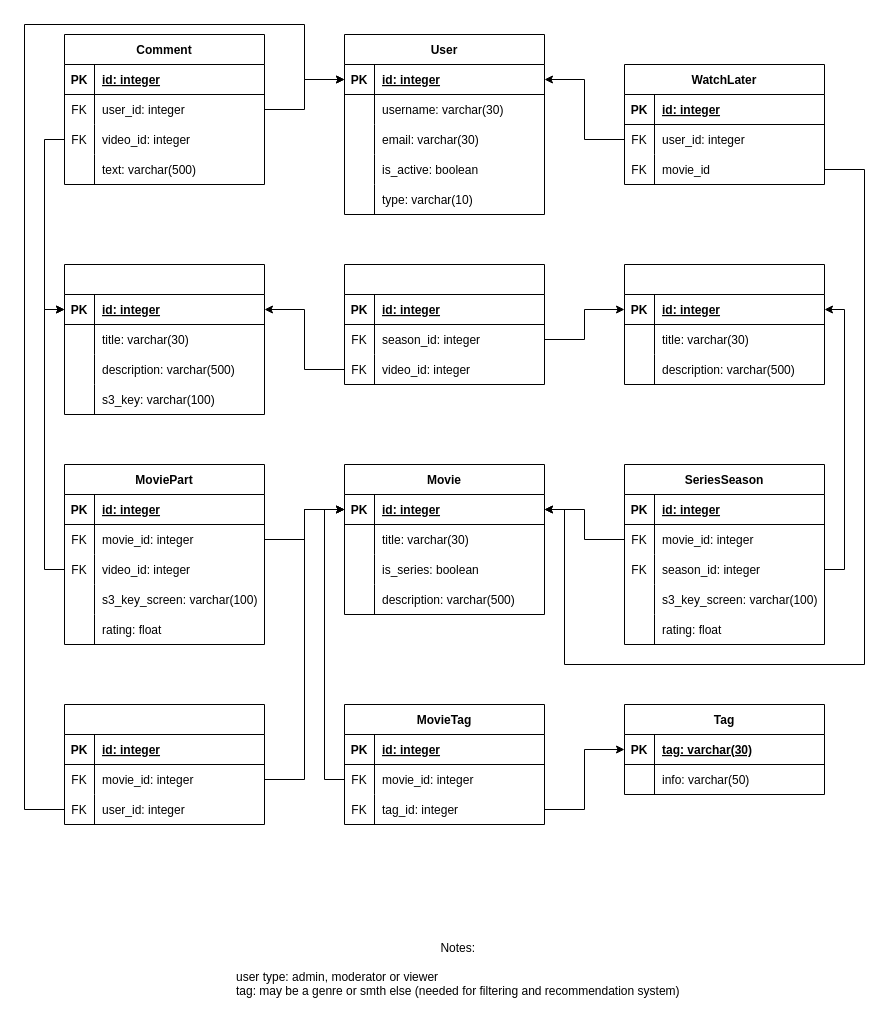
The diagram is 890 pixels wide and 1032 high, and some of its shapes have lost their labels. Each missing label, with the box of its shape:
Season: (624, 264, 824, 384)
SeasonEpisode: (344, 264, 544, 384)
Video: (64, 264, 264, 414)
ViewingHistory: (64, 704, 264, 824)
